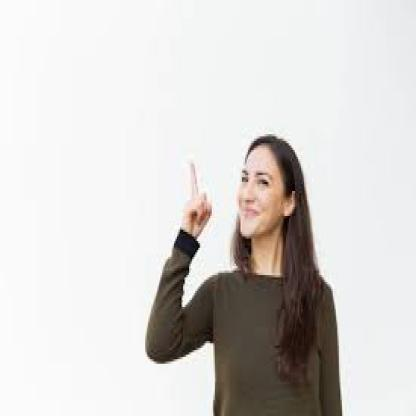Up: (167, 150, 218, 250)
